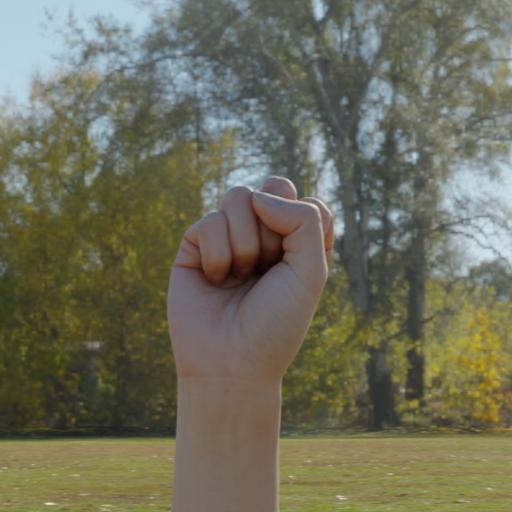S: (149, 161, 348, 512)
